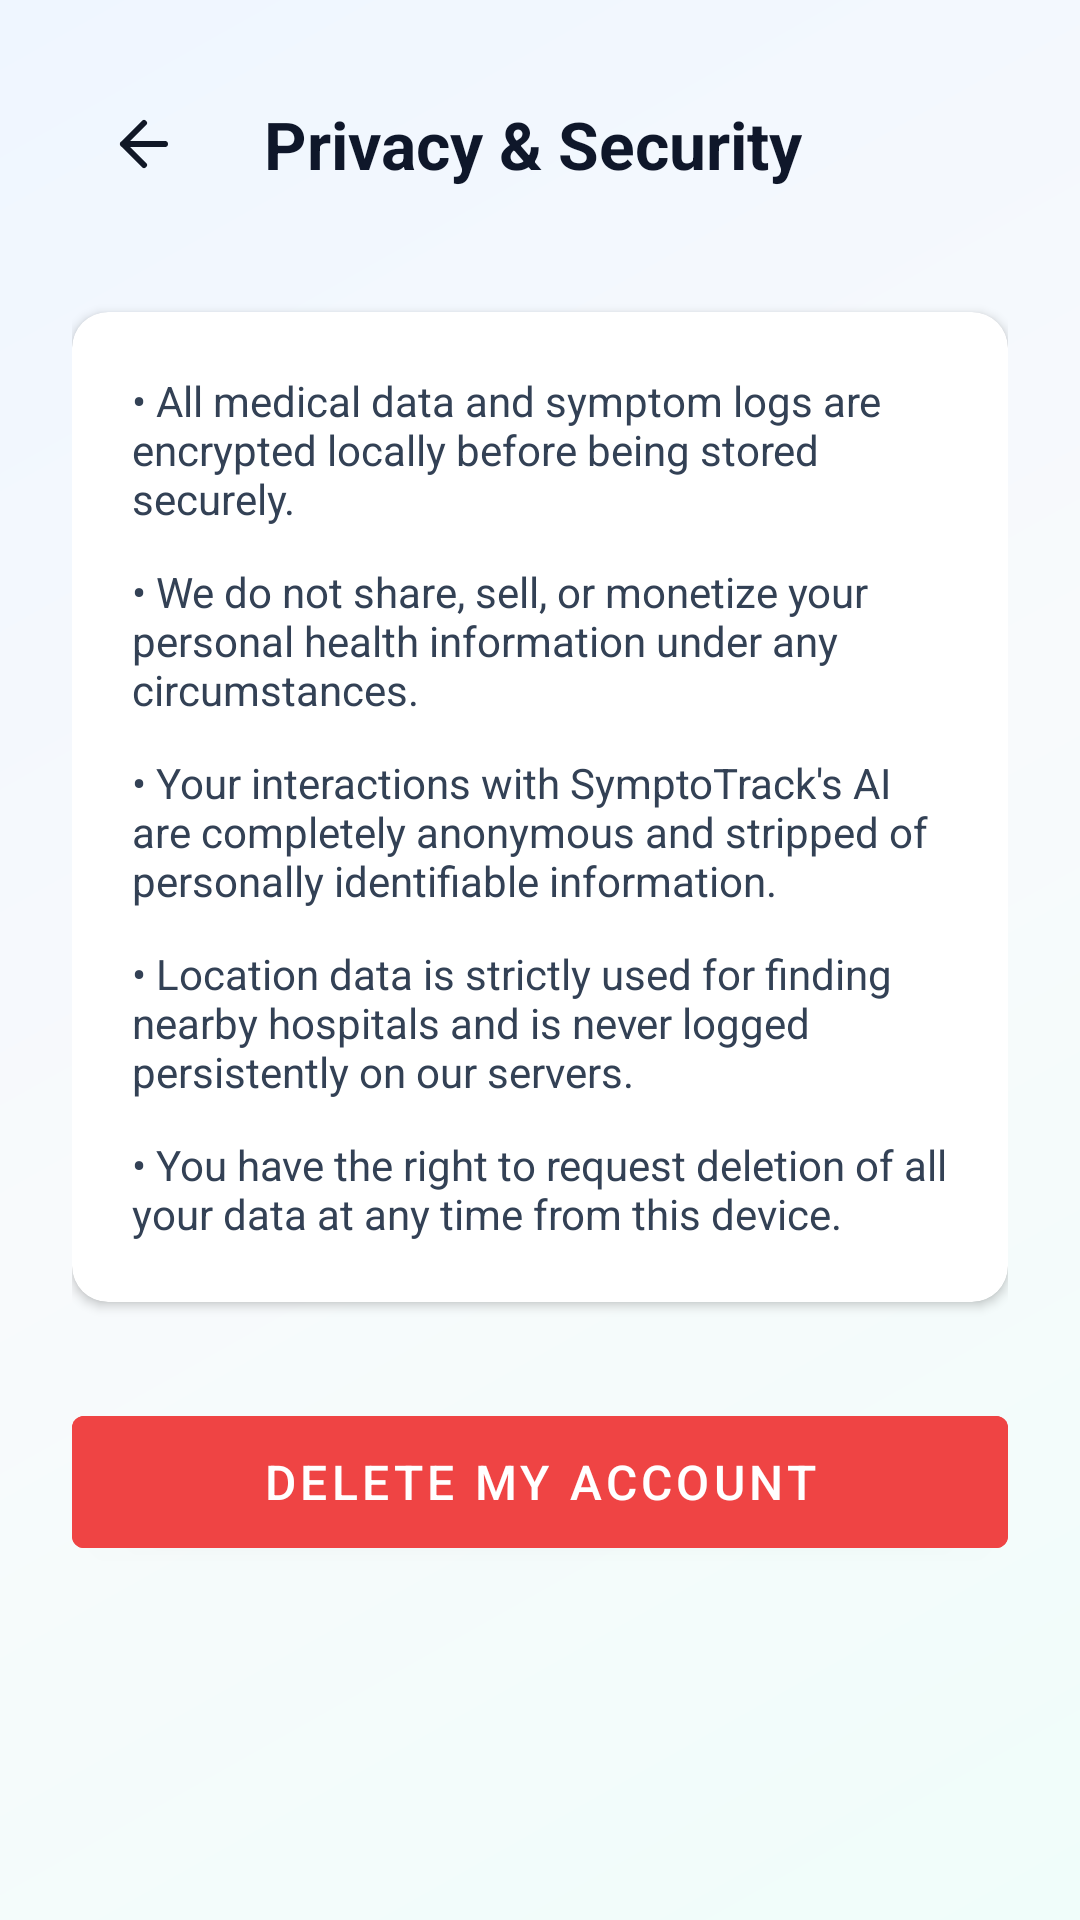

Point at icon controls on the screen. Image size 1080 × 1920, points as (x,y).
back: (144,144)
